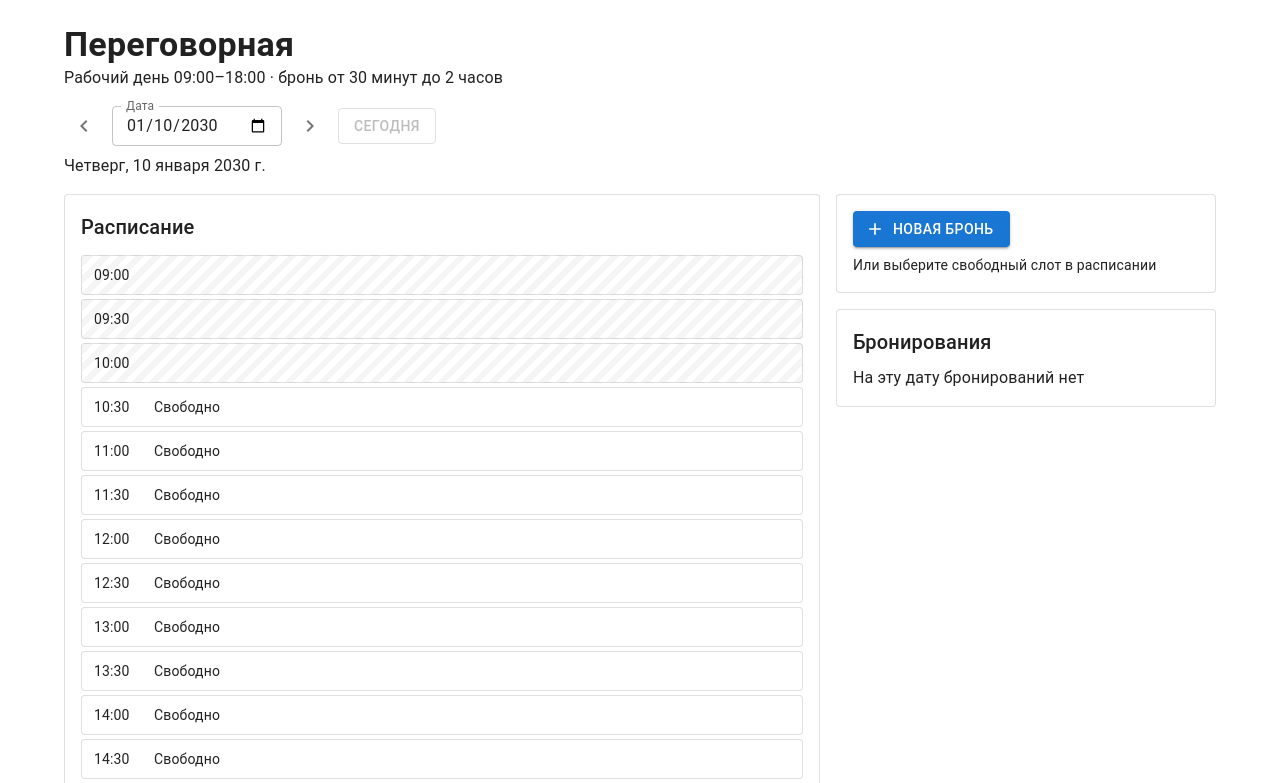
конфликт со стороны сервера › 409: понятное сообщение, свежий список и введённые данные на месте
Expected: the button "10:30 Свободно" is shown, [81, 387, 803, 427]
Click the button "11:00 Свободно": click(112, 451) [81, 431, 803, 471]
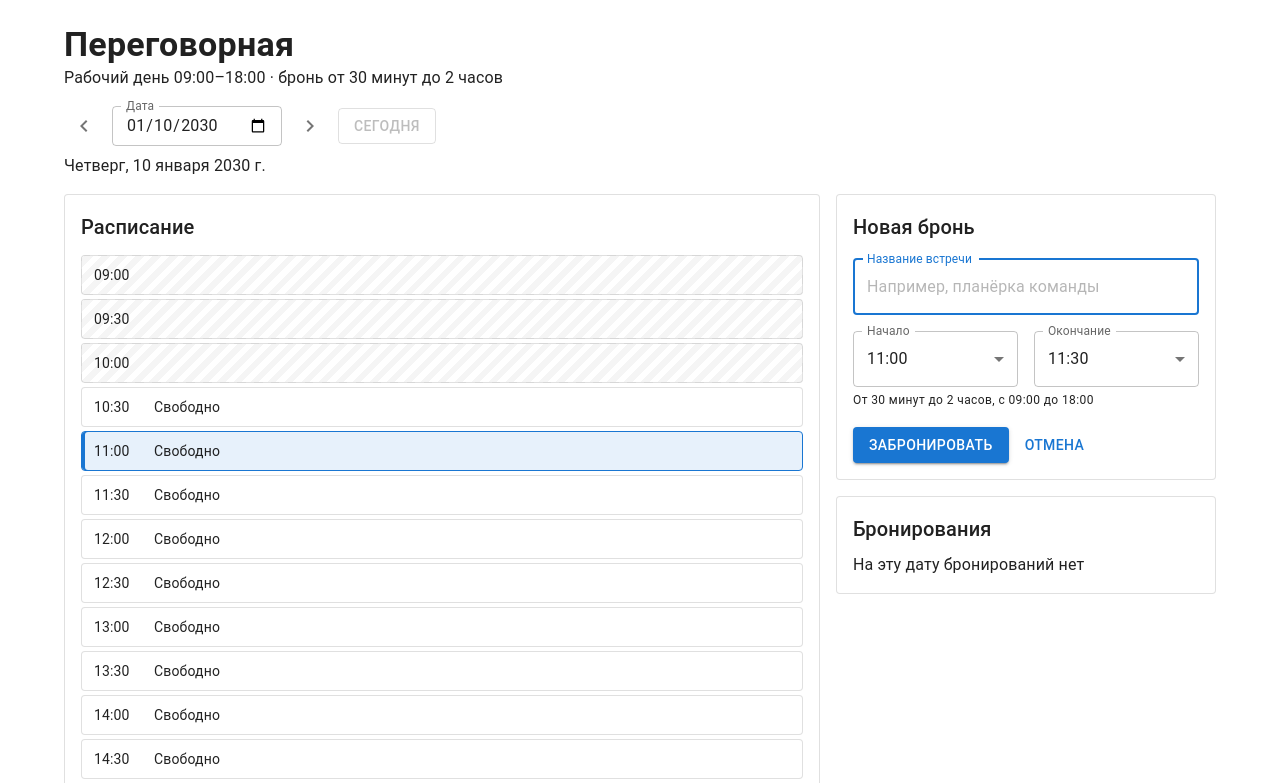
In the field labelled "Название встречи": (1026, 287) [853, 259, 1199, 315], type "Ретро"
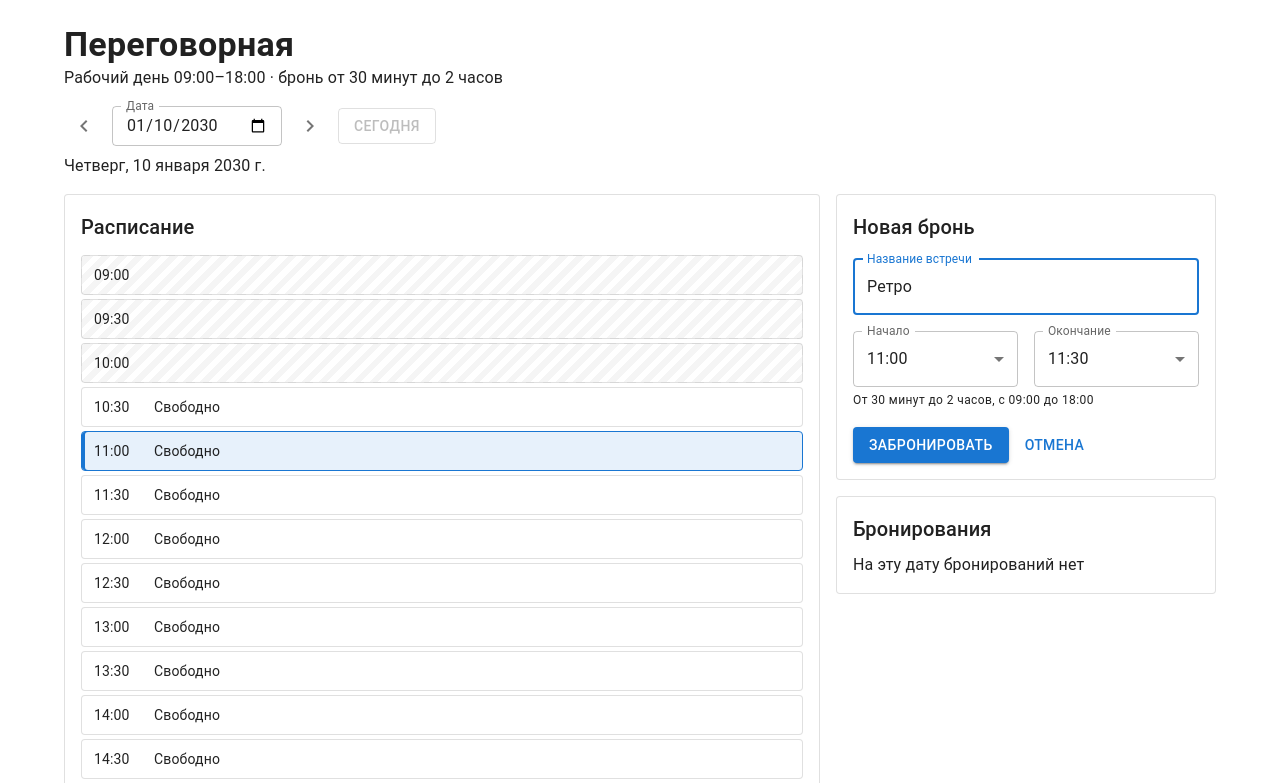
Click the dropdown named "Окончание": click(1068, 359) [1048, 350, 1089, 368]
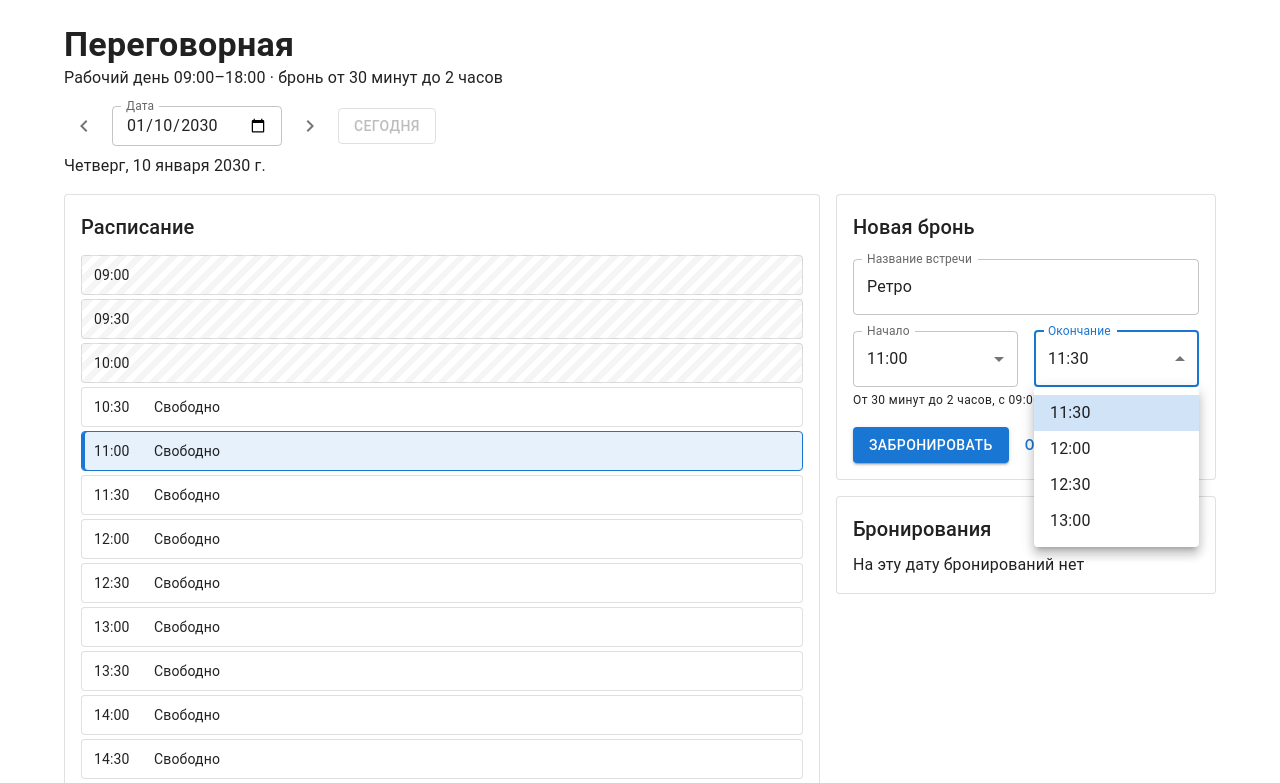
Click the option "12:00": click(1070, 448) [1050, 439, 1091, 458]
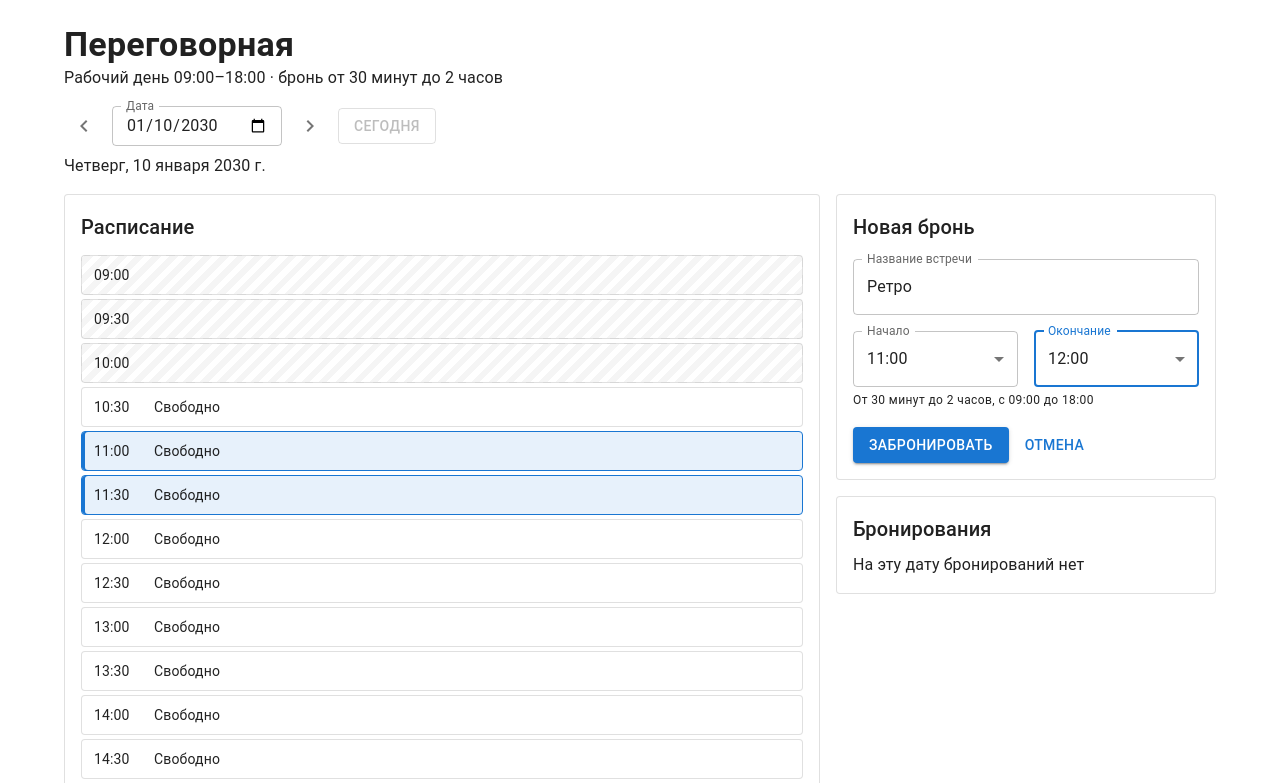
Click the button "Забронировать": click(931, 445) [853, 427, 1009, 463]
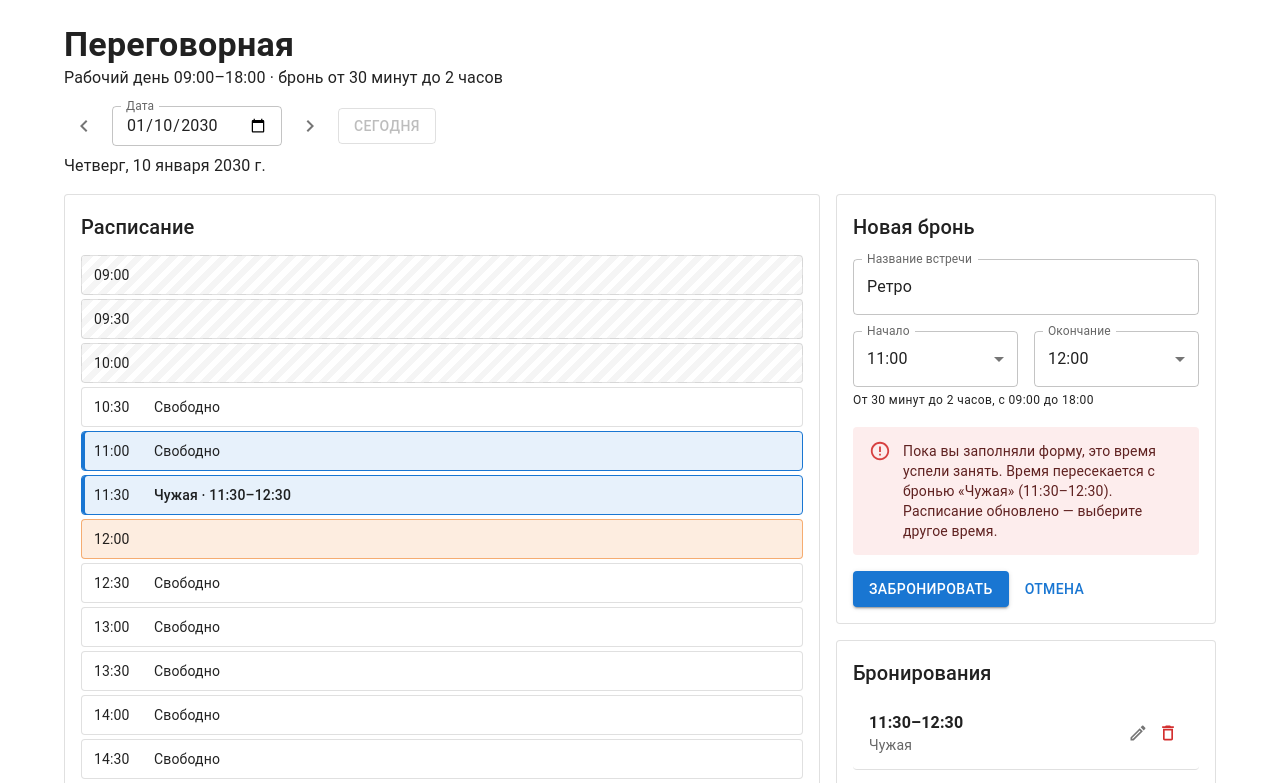
Expected: the dropdown named "Начало" reads "11:00", [867, 350, 908, 368]
Expected: the text "успели занять" shows "«Чужая» (11:30–12:30)", [903, 443, 1156, 539]
Expected: the text "Чужая" is shown, [869, 738, 912, 754]
